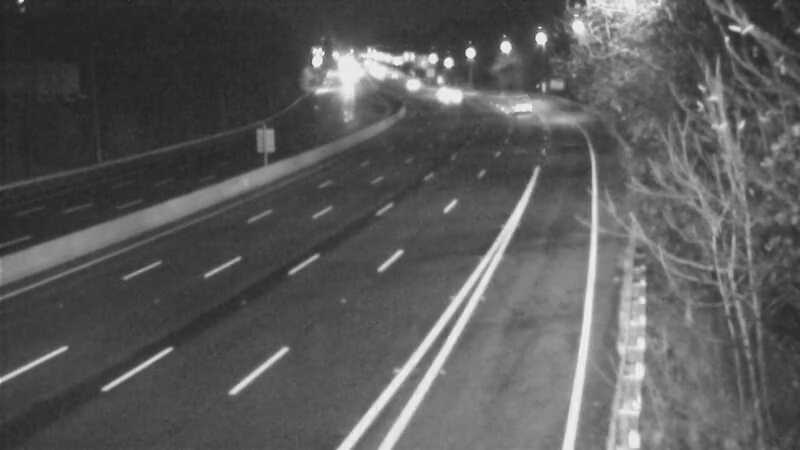vehicle: (384, 60, 434, 110), (420, 75, 470, 125), (492, 79, 542, 129)
